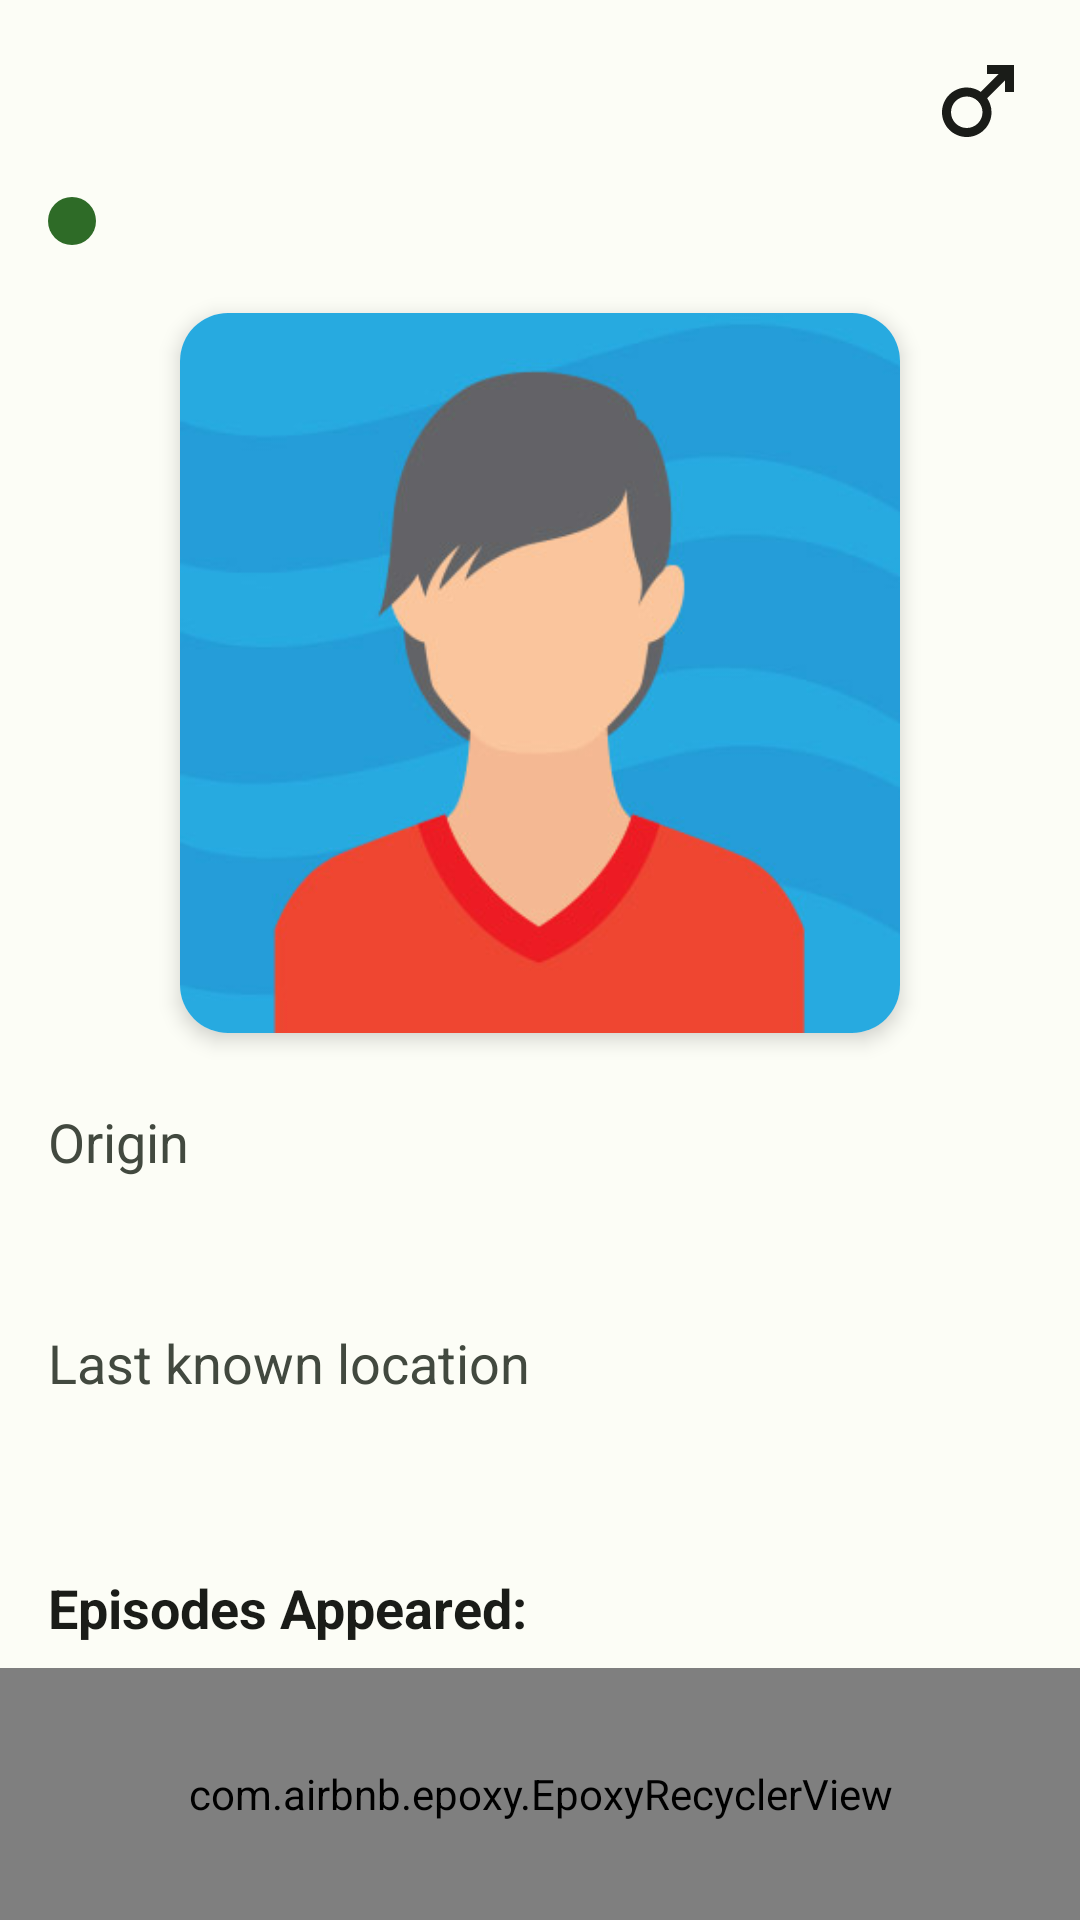

Icon click points for this 1080 × 1920 phone screenshot, format point (x, y):
male: point (978, 101)
